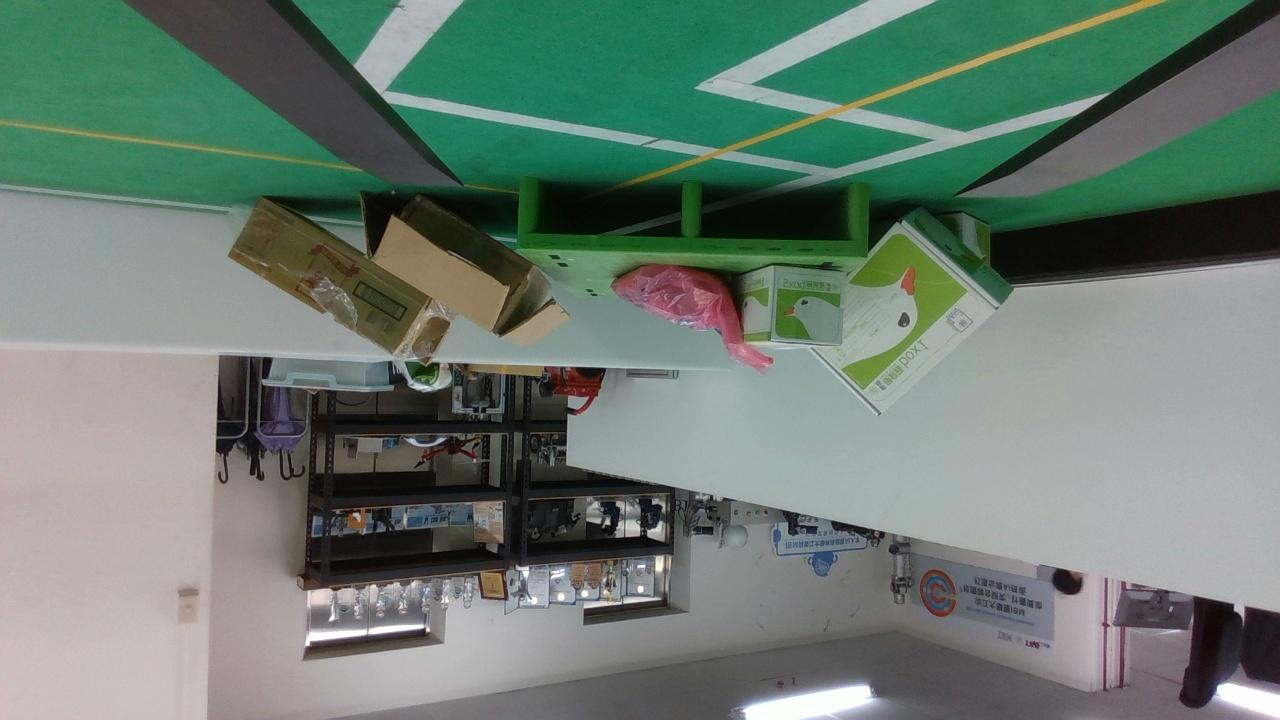Pallet: (518, 184, 872, 260)
